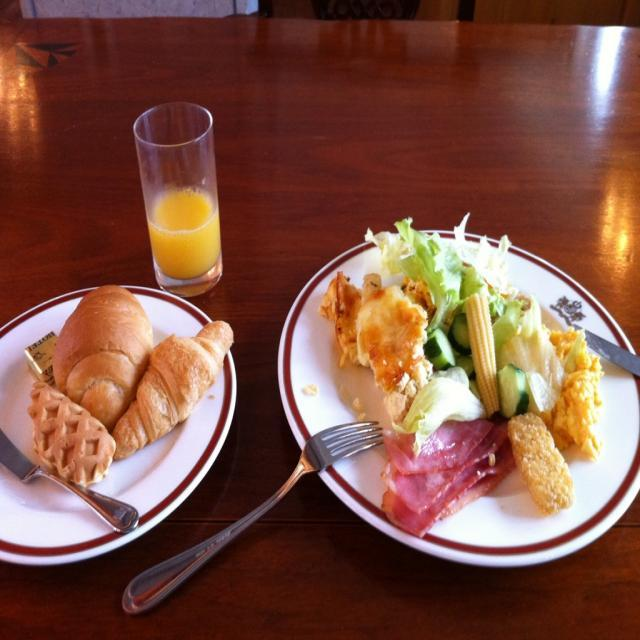Croissant: (57, 282, 152, 434), (122, 320, 222, 454)
